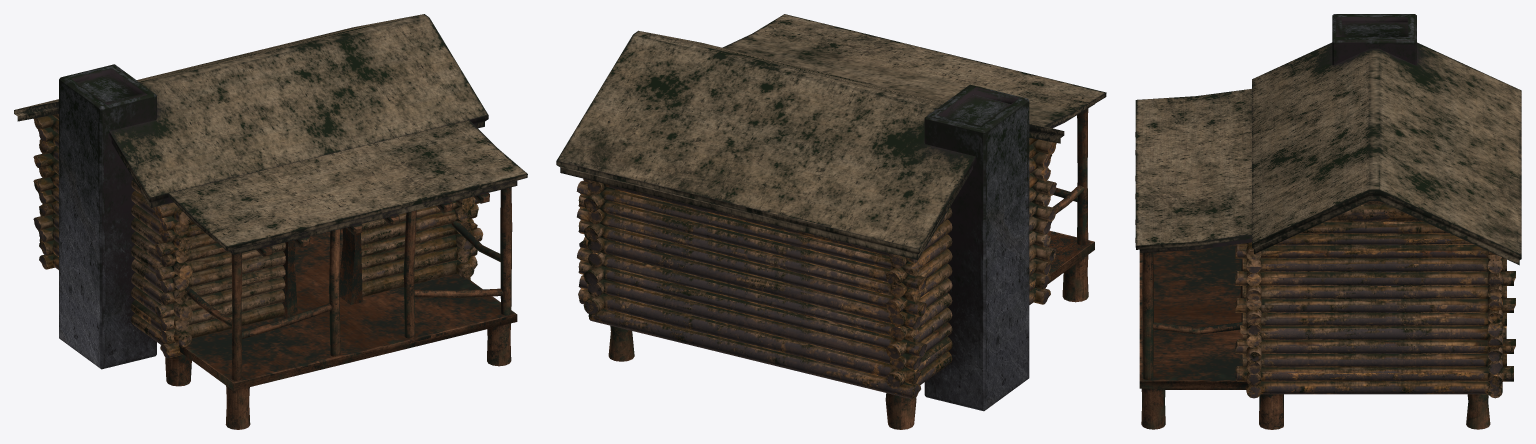
File: cabaña principla low.fbx
3 views of the same model, side by side, from view 1: azimuth 30°, elevation 25°; view 2: azimuth 150°, elevation 25°; view 3: azimuth 270°, elevation 25° (orthographic). The views are drawn at different scales.
Visible parts, largest first — view 1: techo1_low, madera afuera_low, troncos house_low, techo2_low, chimenea_low; view 2: techo1_low, troncos house_low, chimenea_low, techo2_low, madera afuera_low; view 3: techo1_low, troncos house_low, techo2_low, madera afuera_low, chimenea_low.
Part boxes in pixels (x1=…): techo1_low: x1=14, y1=14, x2=488, y2=207; madera afuera_low: x1=165, y1=187, x2=517, y2=429; troncos house_low: x1=33, y1=114, x2=483, y2=358; techo2_low: x1=168, y1=120, x2=527, y2=254; chimenea_low: x1=59, y1=64, x2=156, y2=369; techo1_low: x1=556, y1=30, x2=1064, y2=259; troncos house_low: x1=576, y1=138, x2=1056, y2=399; chimenea_low: x1=924, y1=84, x2=1029, y2=411; techo2_low: x1=722, y1=14, x2=1106, y2=128; madera afuera_low: x1=608, y1=108, x2=1094, y2=429; techo1_low: x1=1252, y1=42, x2=1521, y2=265; troncos house_low: x1=1235, y1=201, x2=1515, y2=398; techo2_low: x1=1135, y1=89, x2=1251, y2=252; madera afuera_low: x1=1135, y1=132, x2=1490, y2=429; chimenea_low: x1=1332, y1=14, x2=1416, y2=65.
Bounding box in the file's own units: 655 × 473 × 634.
3 materials, 3 textured.
